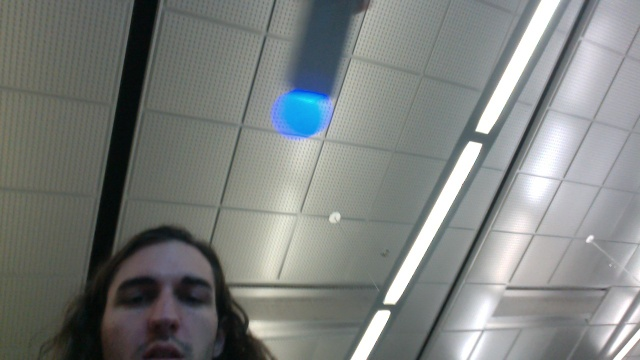wand: (273, 91, 329, 140)
